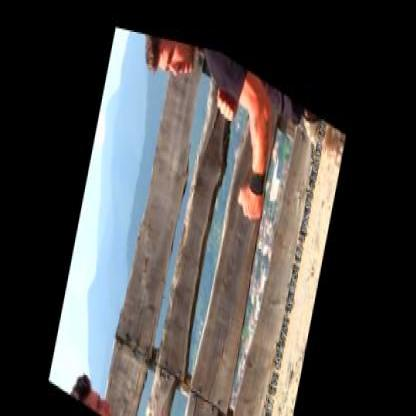knife: (191, 393, 228, 414)
